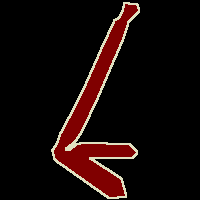tie: (52, 2, 139, 198)
